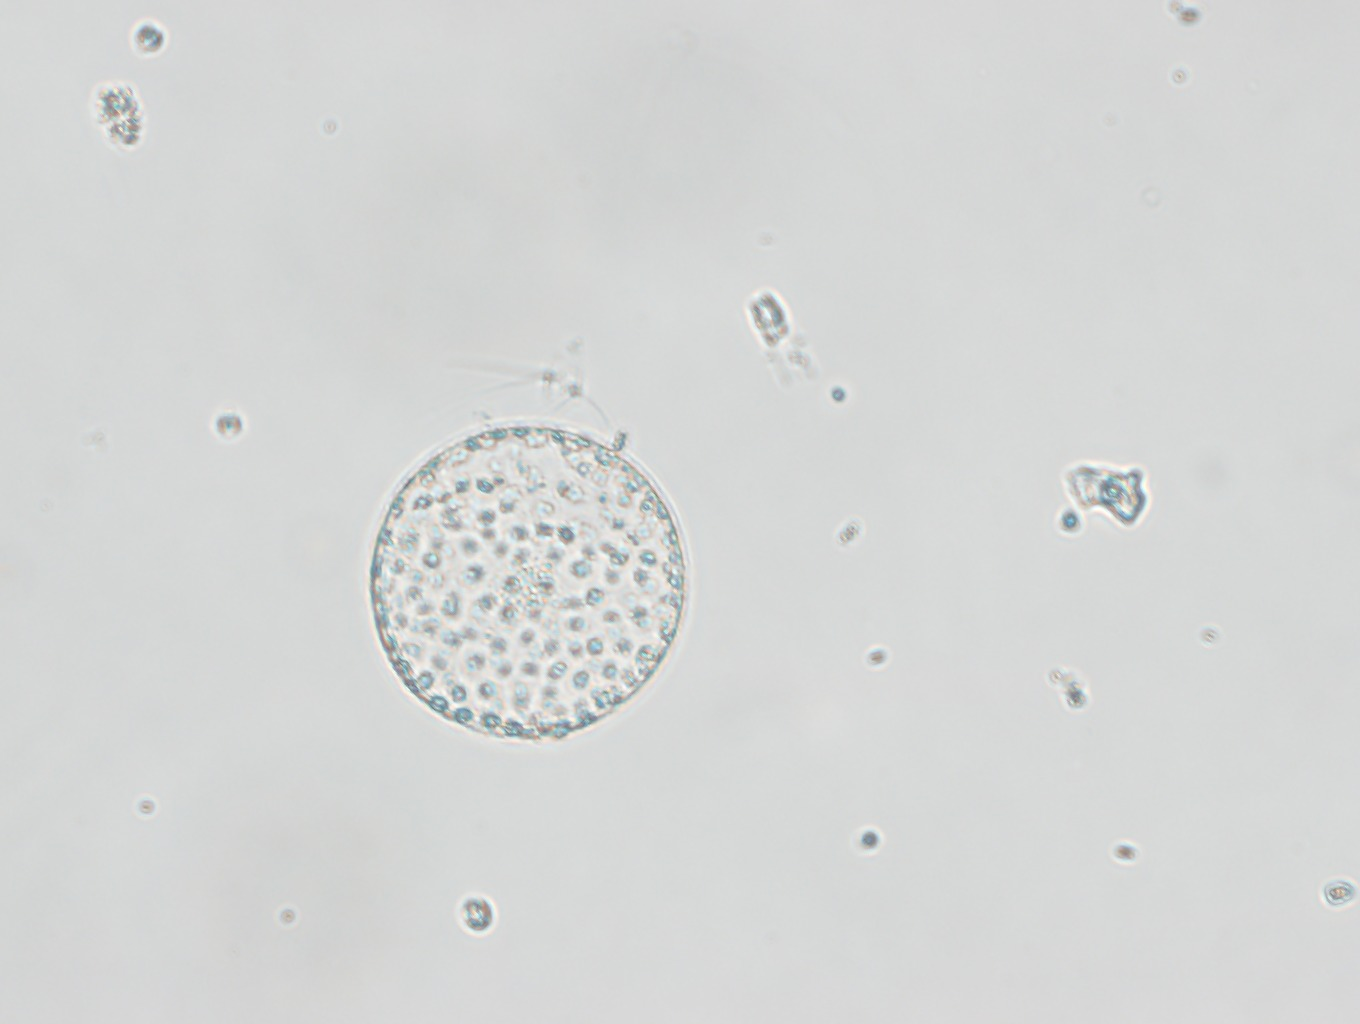coscinodiscus: (368, 422, 691, 742)
